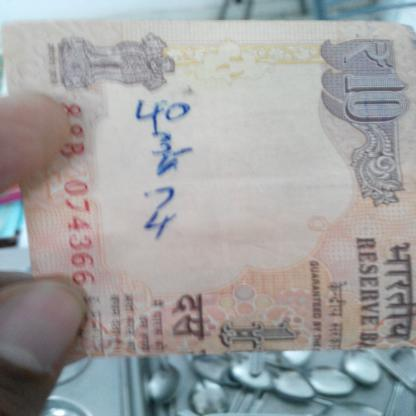Old10Front: (0, 19, 416, 356)
